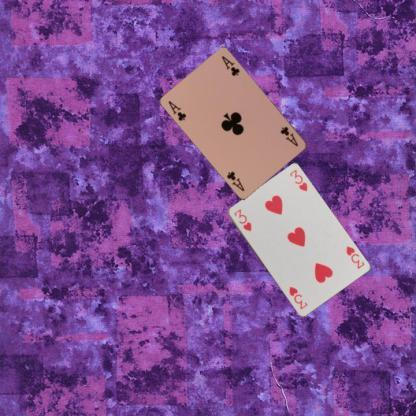3h: (343, 243, 366, 270), (232, 206, 252, 233)
Ac: (278, 124, 300, 148), (166, 98, 188, 122)
